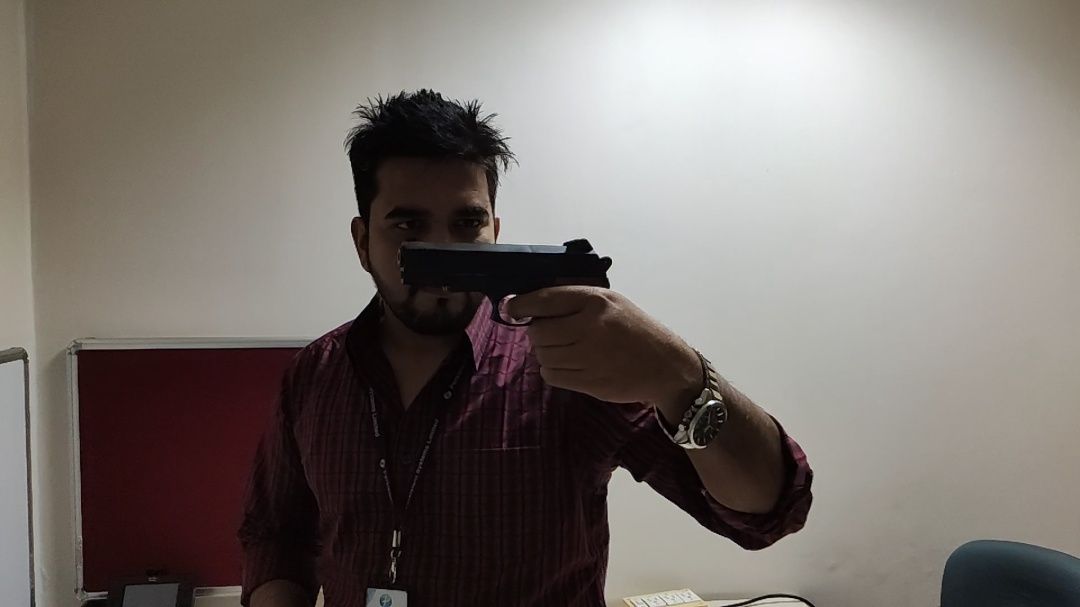gun: (253, 72, 797, 435)
